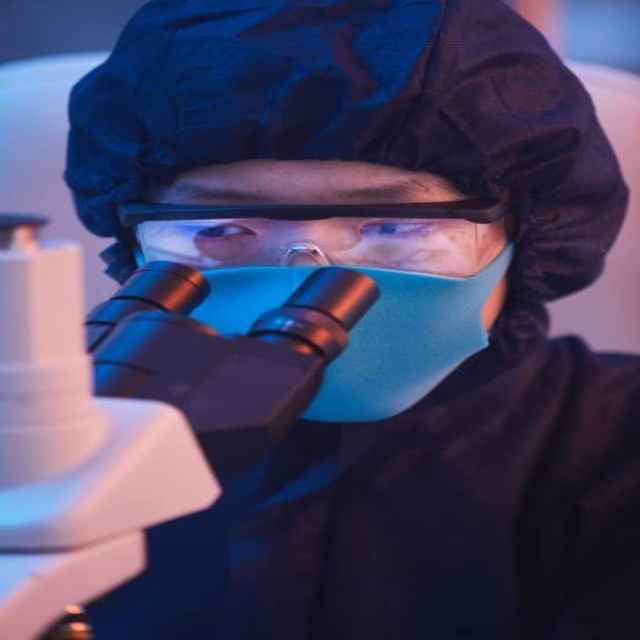Gafas: (111, 194, 514, 274)
Mascara: (140, 234, 520, 425)
